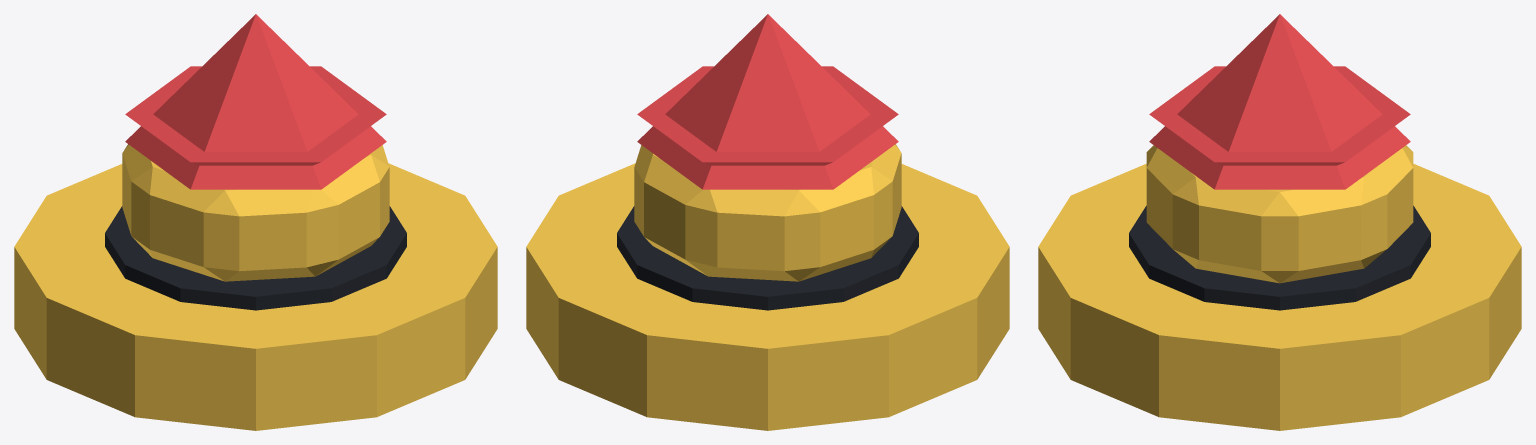
The model's file is SM_Product_RubyRing.fbx.
3 renders of one model, left to right at view 1: azimuth 30°, elevation 25°; view 2: azimuth 150°, elevation 25°; view 3: azimuth 270°, elevation 25°, orthographic.
Parts seen in each view (by area): view 1: SM_Product_RubyRing; view 2: SM_Product_RubyRing; view 3: SM_Product_RubyRing.
Part boxes in pixels (x1,y1,x2,y2): SM_Product_RubyRing: (14,14,497,430); SM_Product_RubyRing: (526,14,1009,430); SM_Product_RubyRing: (1038,14,1521,430).
Size of the model in its own units: 0.48 by 0.36 by 0.48.
